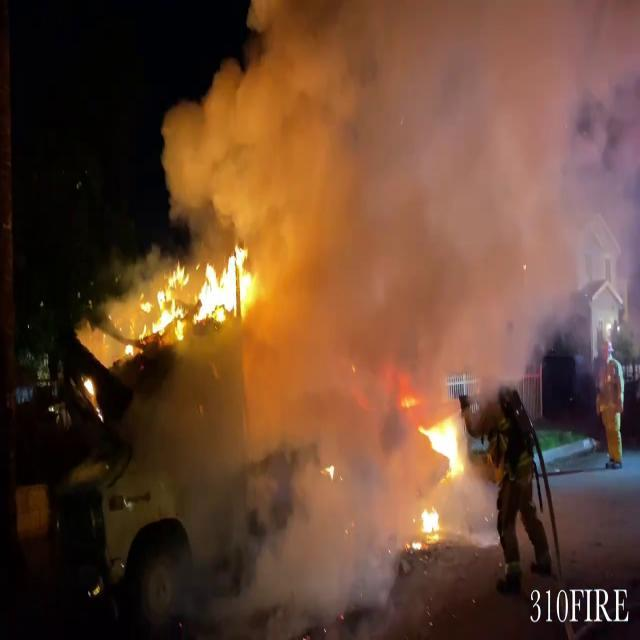Fire: (189, 238, 261, 326), (416, 409, 468, 477), (410, 504, 444, 546)
Smoke: (155, 0, 640, 354)
